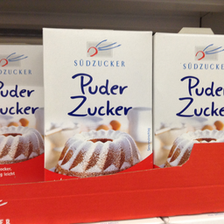sugar: (42, 26, 153, 180), (153, 31, 224, 169), (1, 43, 43, 183)
